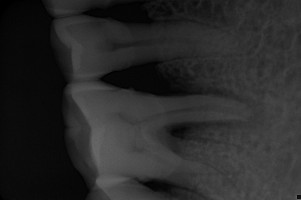Dental Caries: (158, 69, 276, 141)
